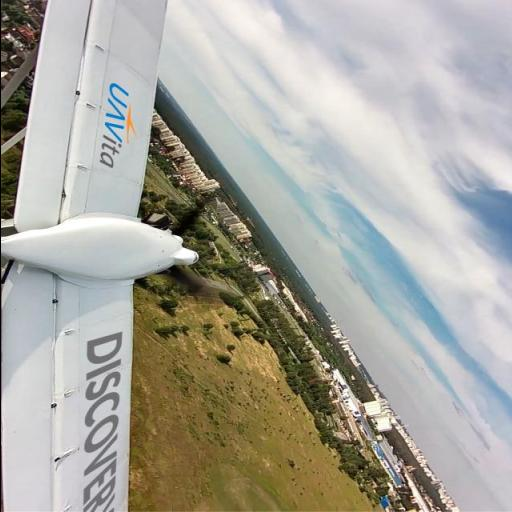uav: (0, 3, 200, 512)
